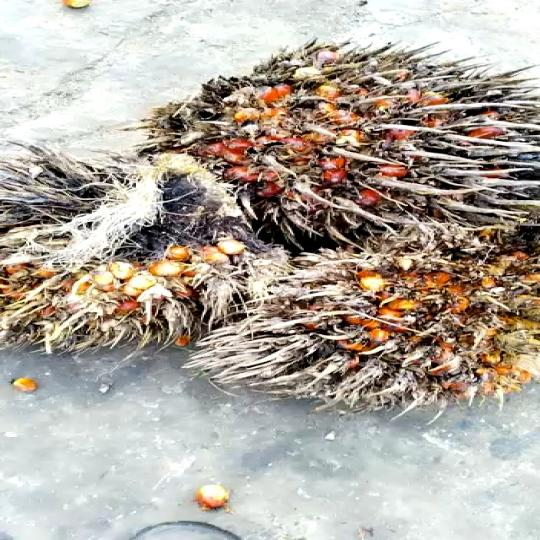terlalu masak: (127, 23, 540, 251), (170, 243, 540, 409)
